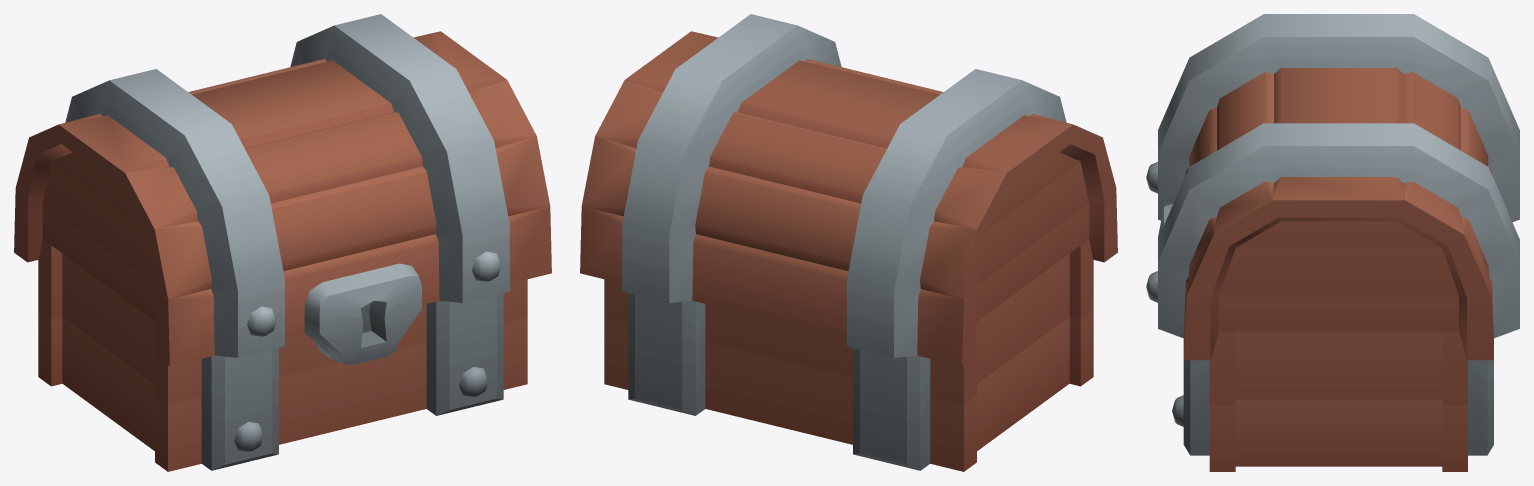
The model's file is chest_gold.glb.
3 renders of one model, left to right at view 1: azimuth 30°, elevation 25°; view 2: azimuth 150°, elevation 25°; view 3: azimuth 270°, elevation 25°, orthographic.
Visible parts, largest first — view 1: chest_gold_lid, chest_gold; view 2: chest_gold_lid, chest_gold; view 3: chest_gold_lid, chest_gold.
Boxes of the visible parts, bbox=[...] form: chest_gold_lid: bbox=[14, 14, 551, 366]; chest_gold: bbox=[38, 239, 527, 471]; chest_gold_lid: bbox=[580, 14, 1117, 366]; chest_gold: bbox=[604, 239, 1093, 471]; chest_gold_lid: bbox=[1146, 14, 1519, 360]; chest_gold: bbox=[1172, 331, 1493, 471].
Bounding box in the file's own units: 1.7 × 1.3 × 1.45.
1 material, 1 textured.
